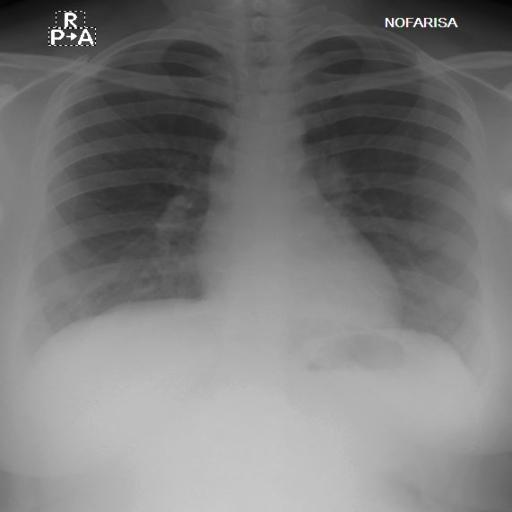normal: (7, 20, 503, 396)
